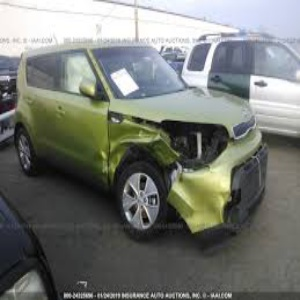bumper: (166, 152, 254, 253)
